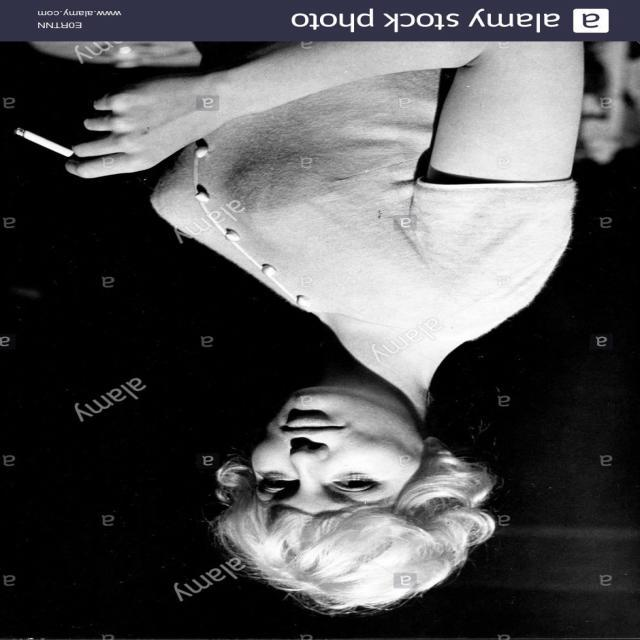cigarette: (9, 109, 103, 180)
